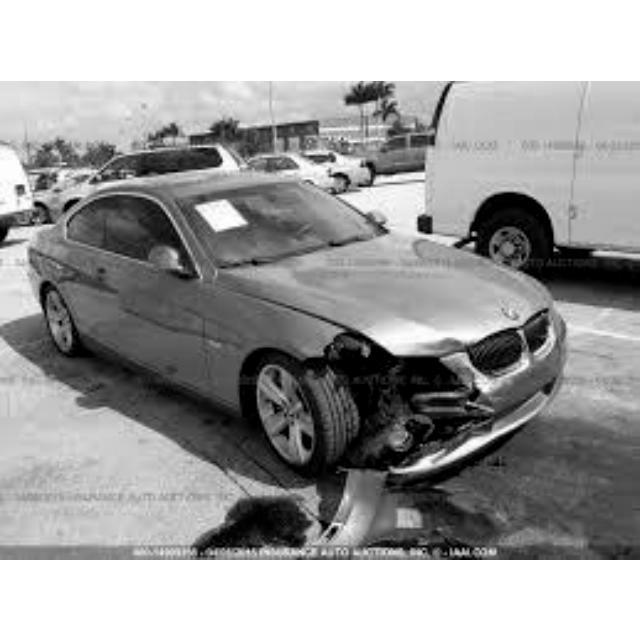bonnet-dent: (287, 249, 553, 352)
front-bumper-dent: (368, 355, 516, 448)
